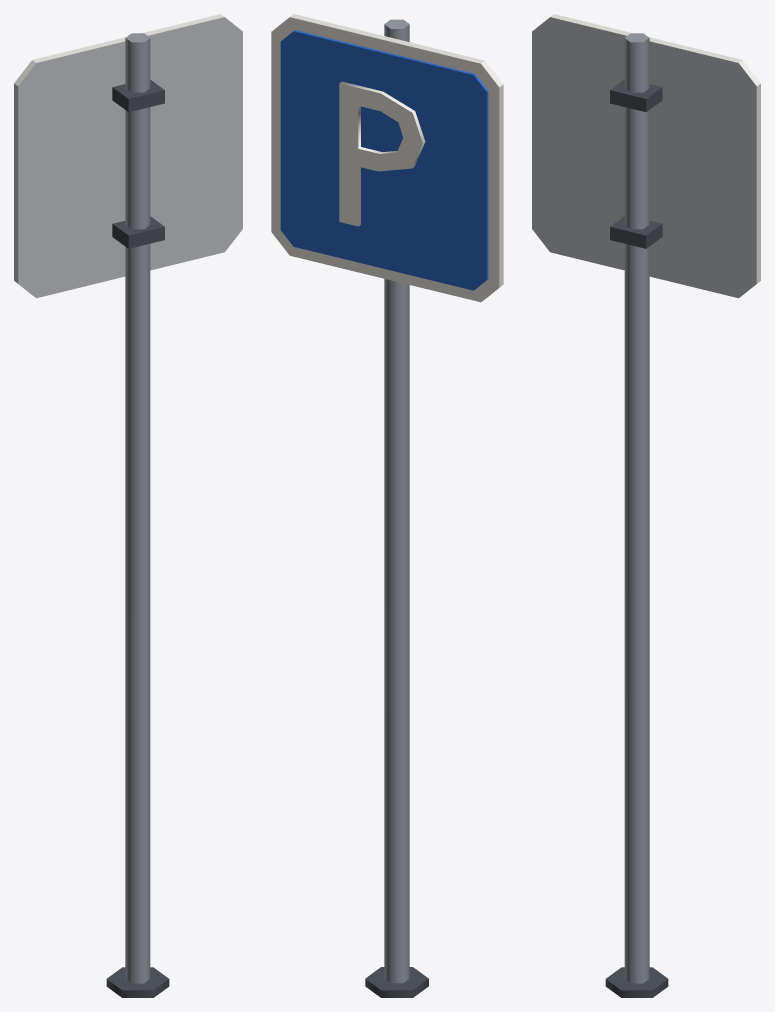
File: sign_parking.glb
3 renders of one model, left to right at view 1: azimuth 30°, elevation 25°; view 2: azimuth 150°, elevation 25°; view 3: azimuth 330°, elevation 25°, orthographic.
Visible parts, largest first — view 1: sign_parking__mesh; view 2: sign_parking__mesh; view 3: sign_parking__mesh.
Boxes of the visible parts, x1,y1,x2,y2 form: sign_parking__mesh: [14, 14, 242, 997]; sign_parking__mesh: [271, 14, 503, 997]; sign_parking__mesh: [532, 14, 760, 997].
Bounding box in the file's own units: 0.62 × 2.5 × 0.15.
Materials: 1 (1 with a texture image).
